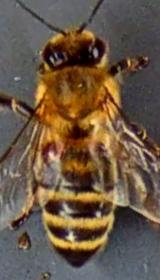varroa_mite: (32, 132, 64, 166)
